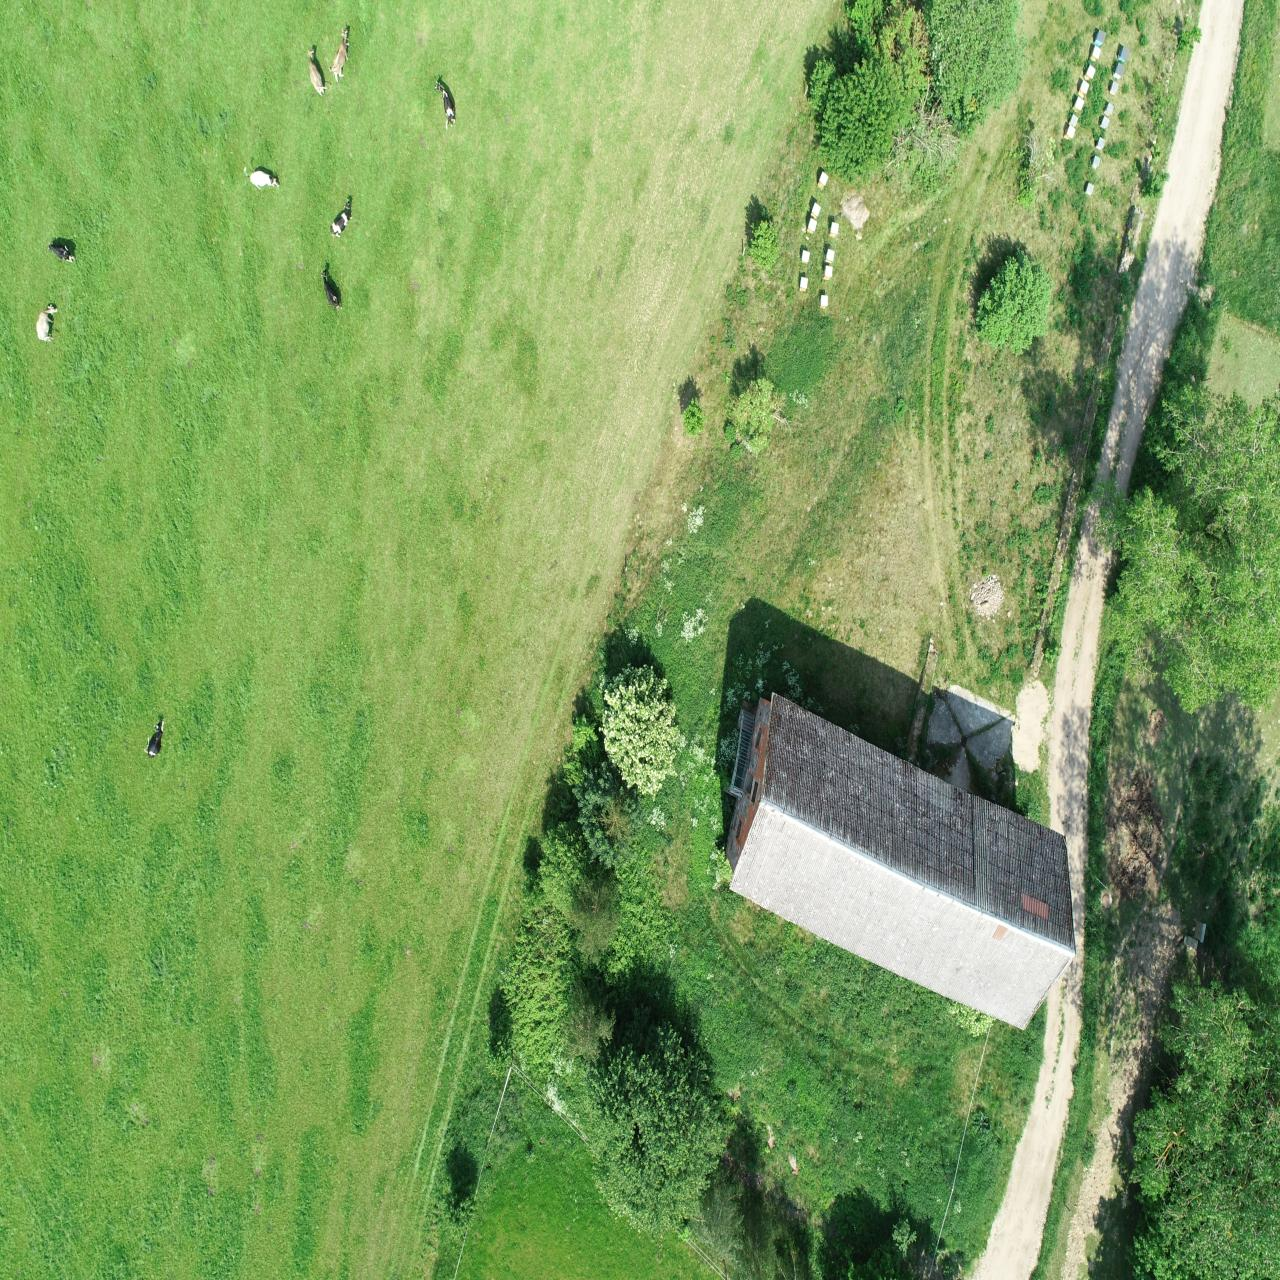cow: (326, 27, 354, 89), (433, 77, 459, 132), (143, 712, 171, 763), (302, 46, 328, 100), (328, 195, 358, 241), (319, 266, 346, 315), (241, 164, 285, 195), (35, 302, 60, 349), (46, 240, 77, 266)
